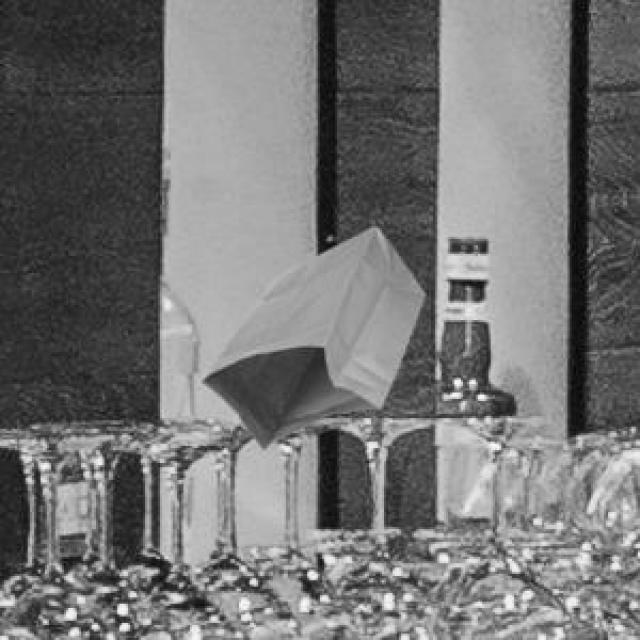paper: (198, 222, 420, 446)
